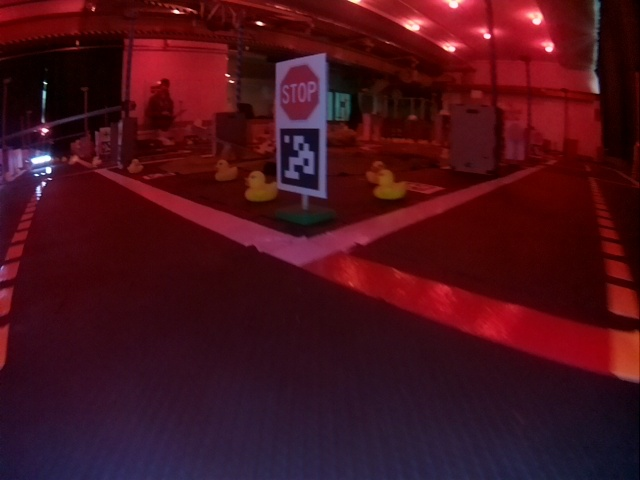Duckie: (243, 171, 278, 202), (373, 170, 406, 199), (214, 159, 237, 182), (128, 159, 143, 173)
QR code: (277, 125, 321, 196), (401, 180, 445, 195), (143, 171, 175, 179)
Stop sign: (276, 66, 322, 118)
Traffic light: (40, 127, 50, 135)
